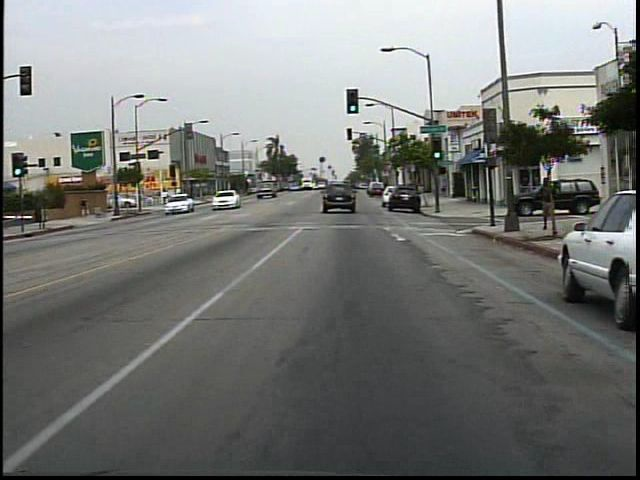person: (535, 170, 560, 239), (78, 191, 97, 220), (160, 187, 170, 206)
